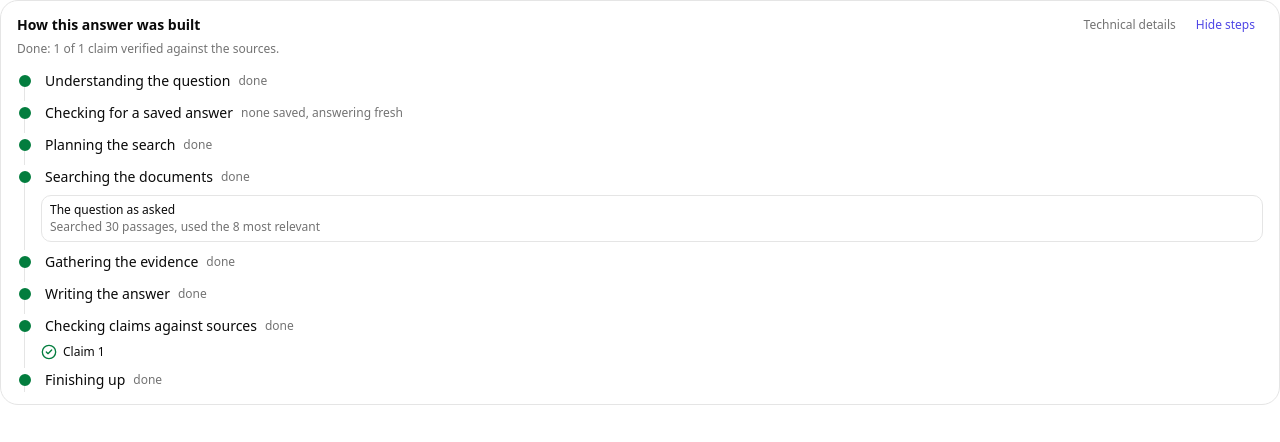
AgentTimeline › is keyboard-reachable: each node opens its details, and the steps collapse
Press Tab
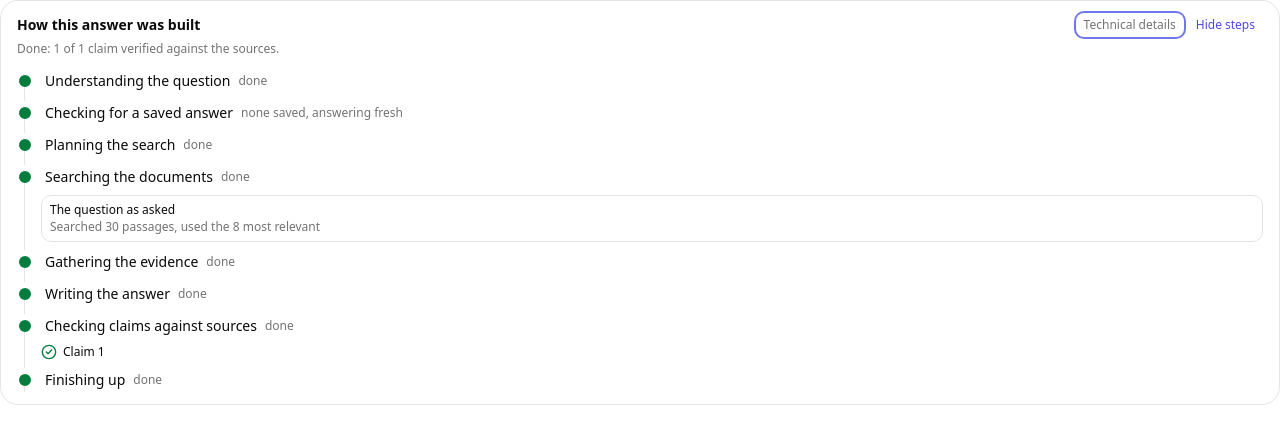
Press Tab
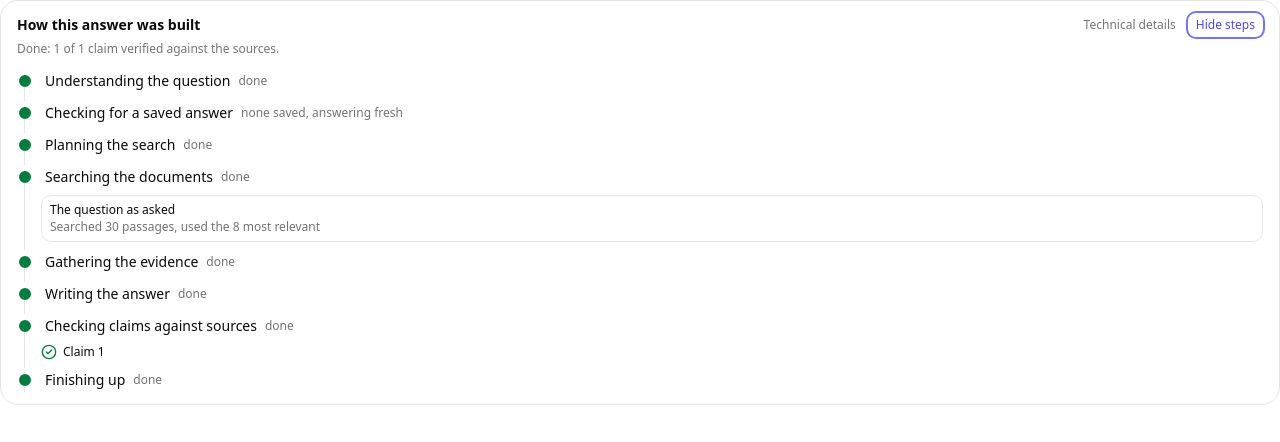
Press Tab
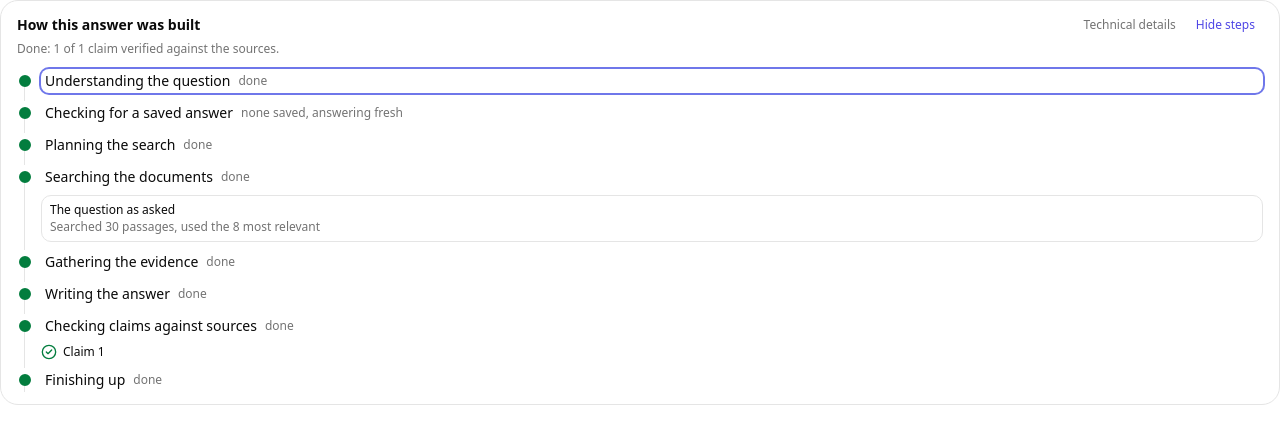
Press Enter
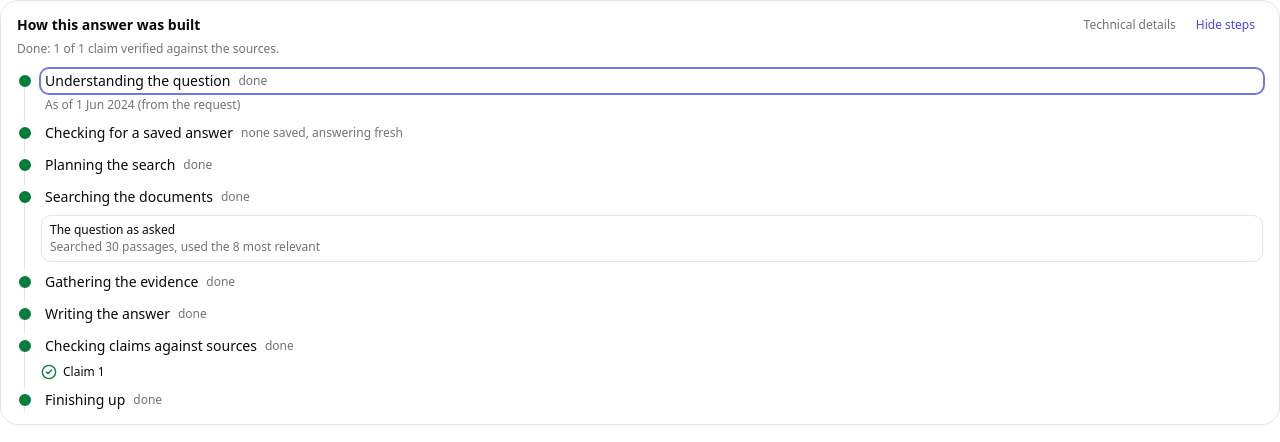
Click the button "Hide steps": [1225, 25] box [1188,13,1263,37]
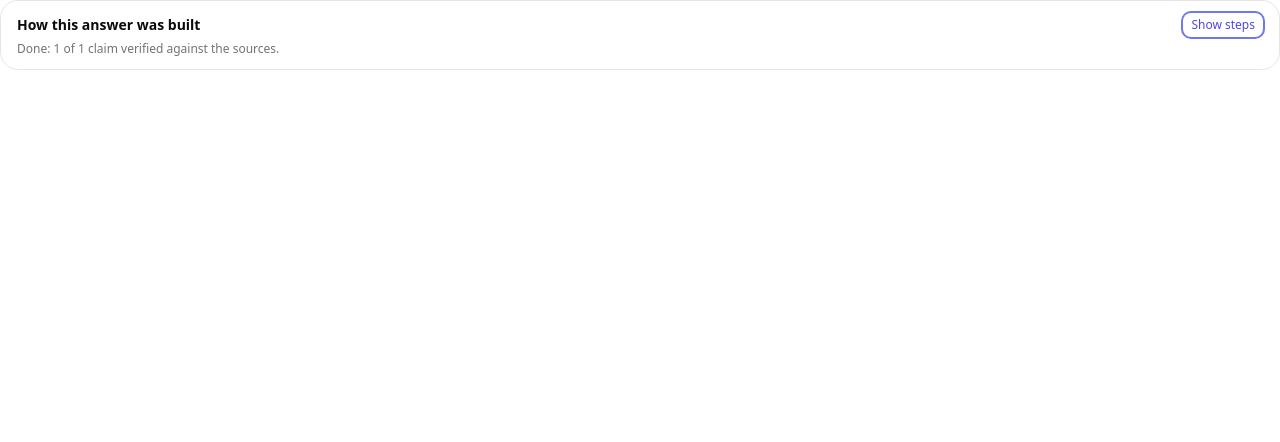
Now the button "Show steps" is collapsed, box [1183,13,1263,37]
